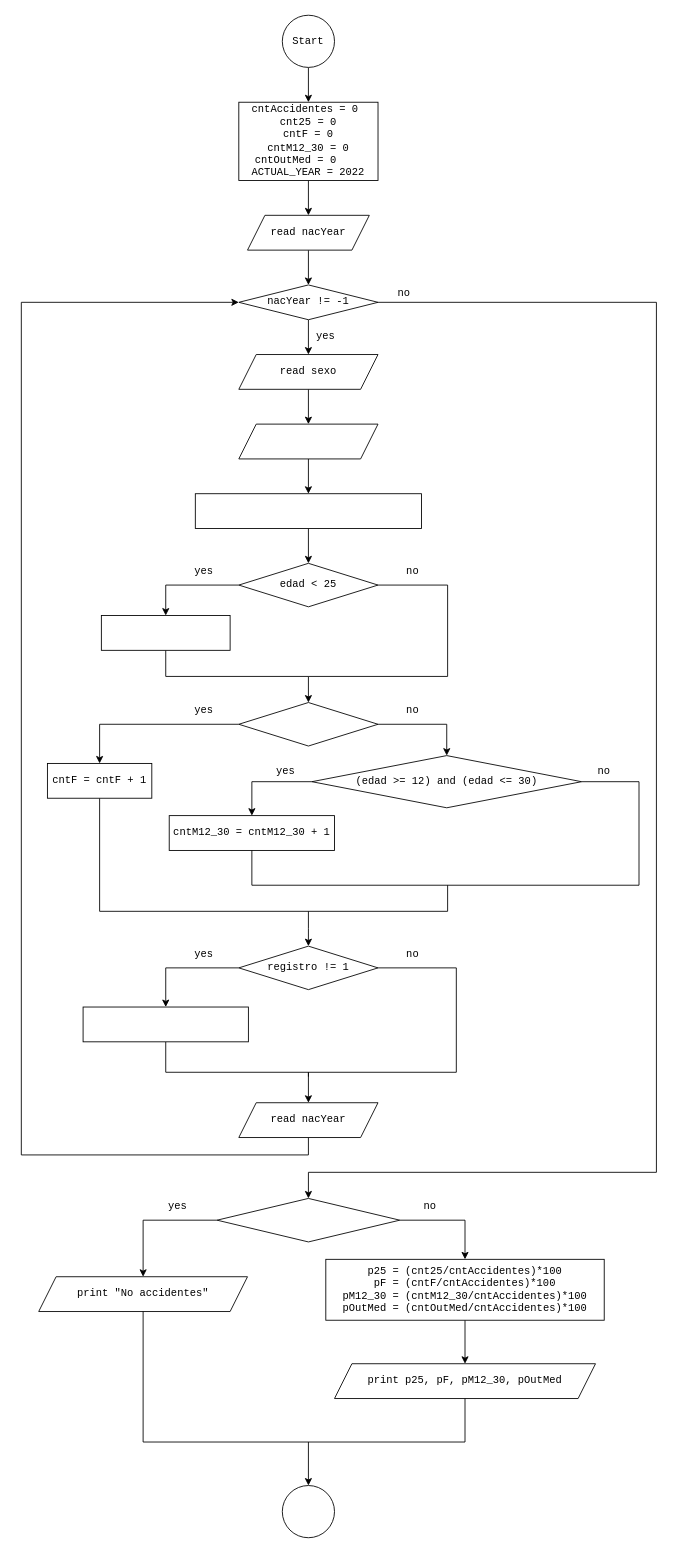
The diagram is 679 pixels wide and 1553 high, and some of its shapes have lost their labels. Here are the shapes that lost their labels. From the top down, the centre of each, then its label:
point 308,441: read registro
point 308,511: edad = ACTUAL_YEAR - nacYear cntAccidentes = cntAccidentes + 1
point 165,632: cnt25 = cnt25 + 1
point 308,724: sexo == 1
point 165,1024: cntOutMed = cntOutMed + 1
point 308,1220: cntAccidentes == 0
point 308,1511: End
